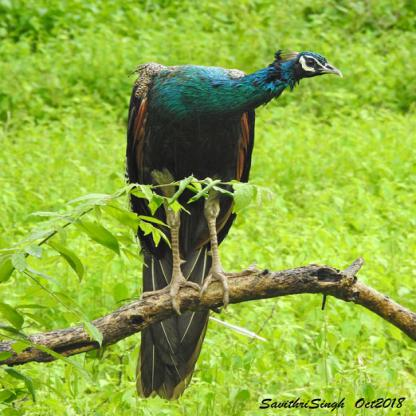Burung: (126, 49, 341, 400)
